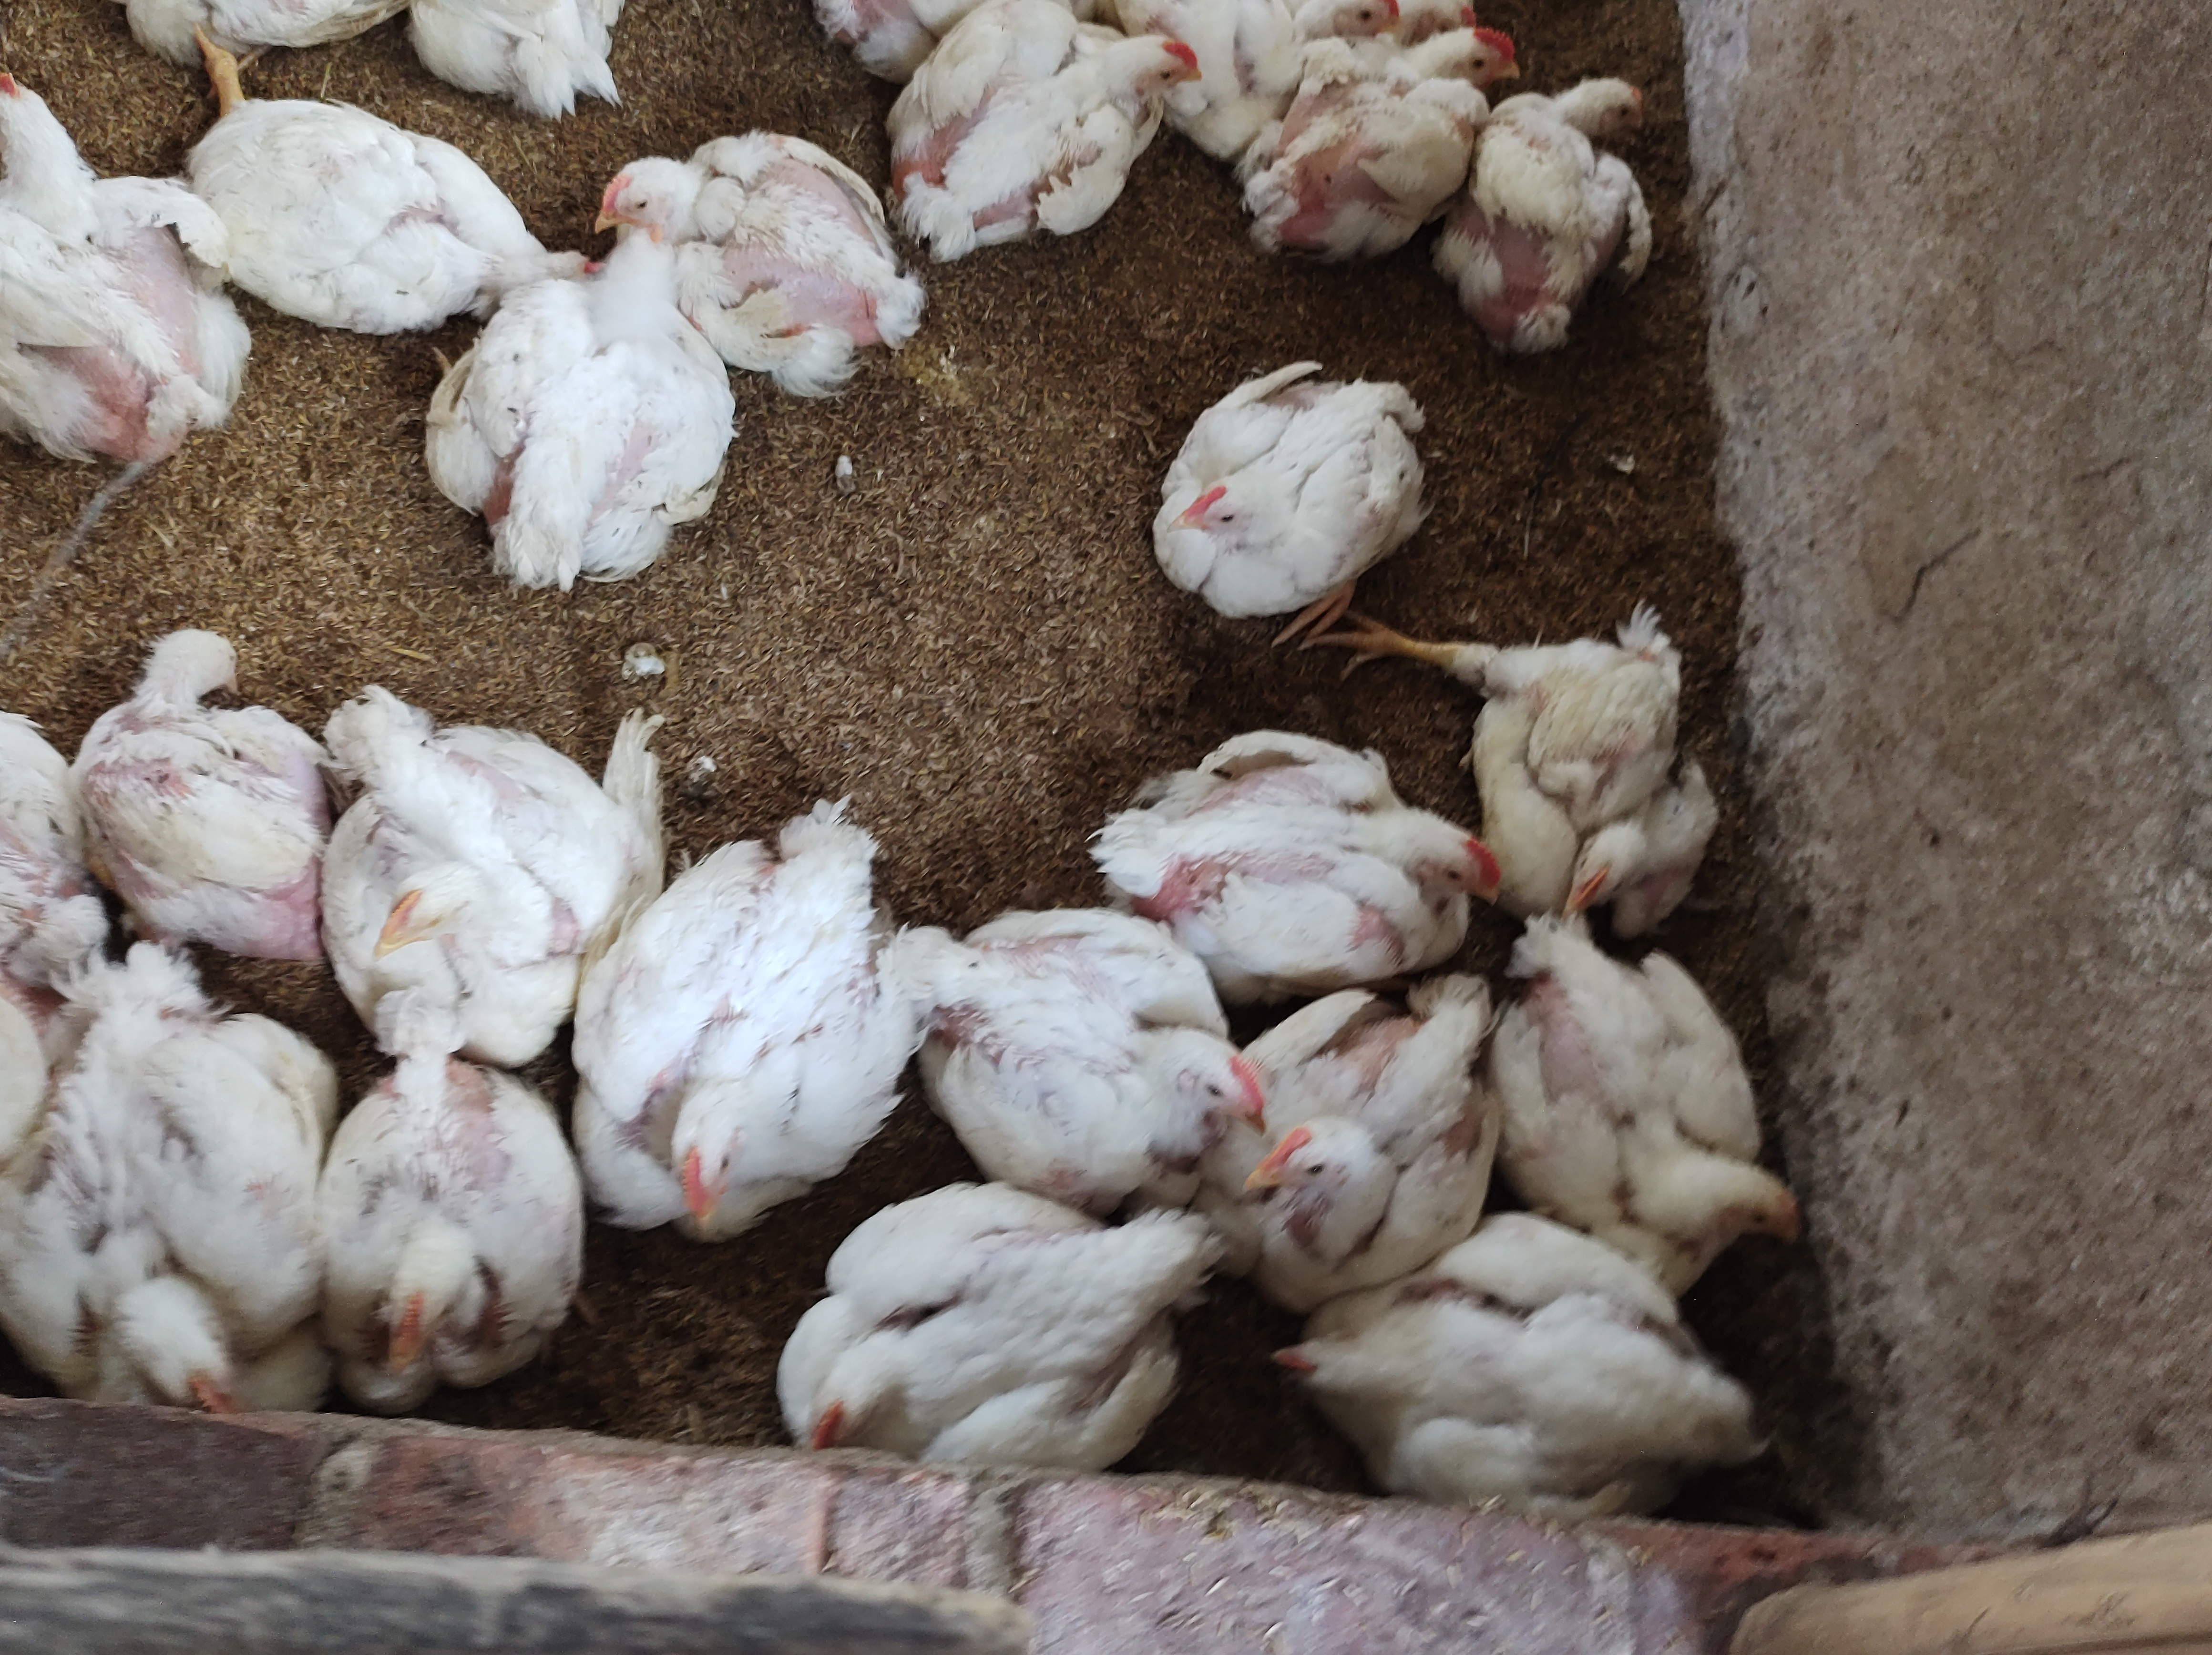Pollos: (609, 781, 965, 1158), (769, 1198, 1193, 1505), (322, 654, 612, 1057), (1283, 1285, 1756, 1532), (64, 961, 315, 1426), (0, 73, 264, 464), (442, 250, 729, 598), (329, 1057, 602, 1419), (1099, 718, 1509, 958), (158, 70, 536, 327), (899, 914, 1240, 1194), (1520, 928, 1821, 1245), (1247, 994, 1581, 1274), (866, 0, 1200, 254), (591, 113, 903, 384), (1236, 7, 1549, 264), (90, 614, 322, 954), (1132, 367, 1443, 617), (1506, 588, 1720, 914), (1480, 70, 1668, 348)
